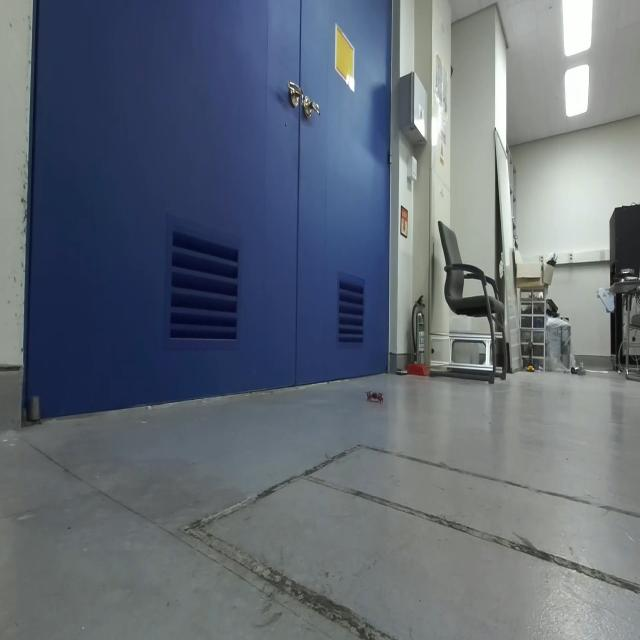crazyflie: (363, 382, 388, 408)
